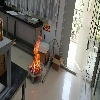fire: (31, 27, 42, 74)
